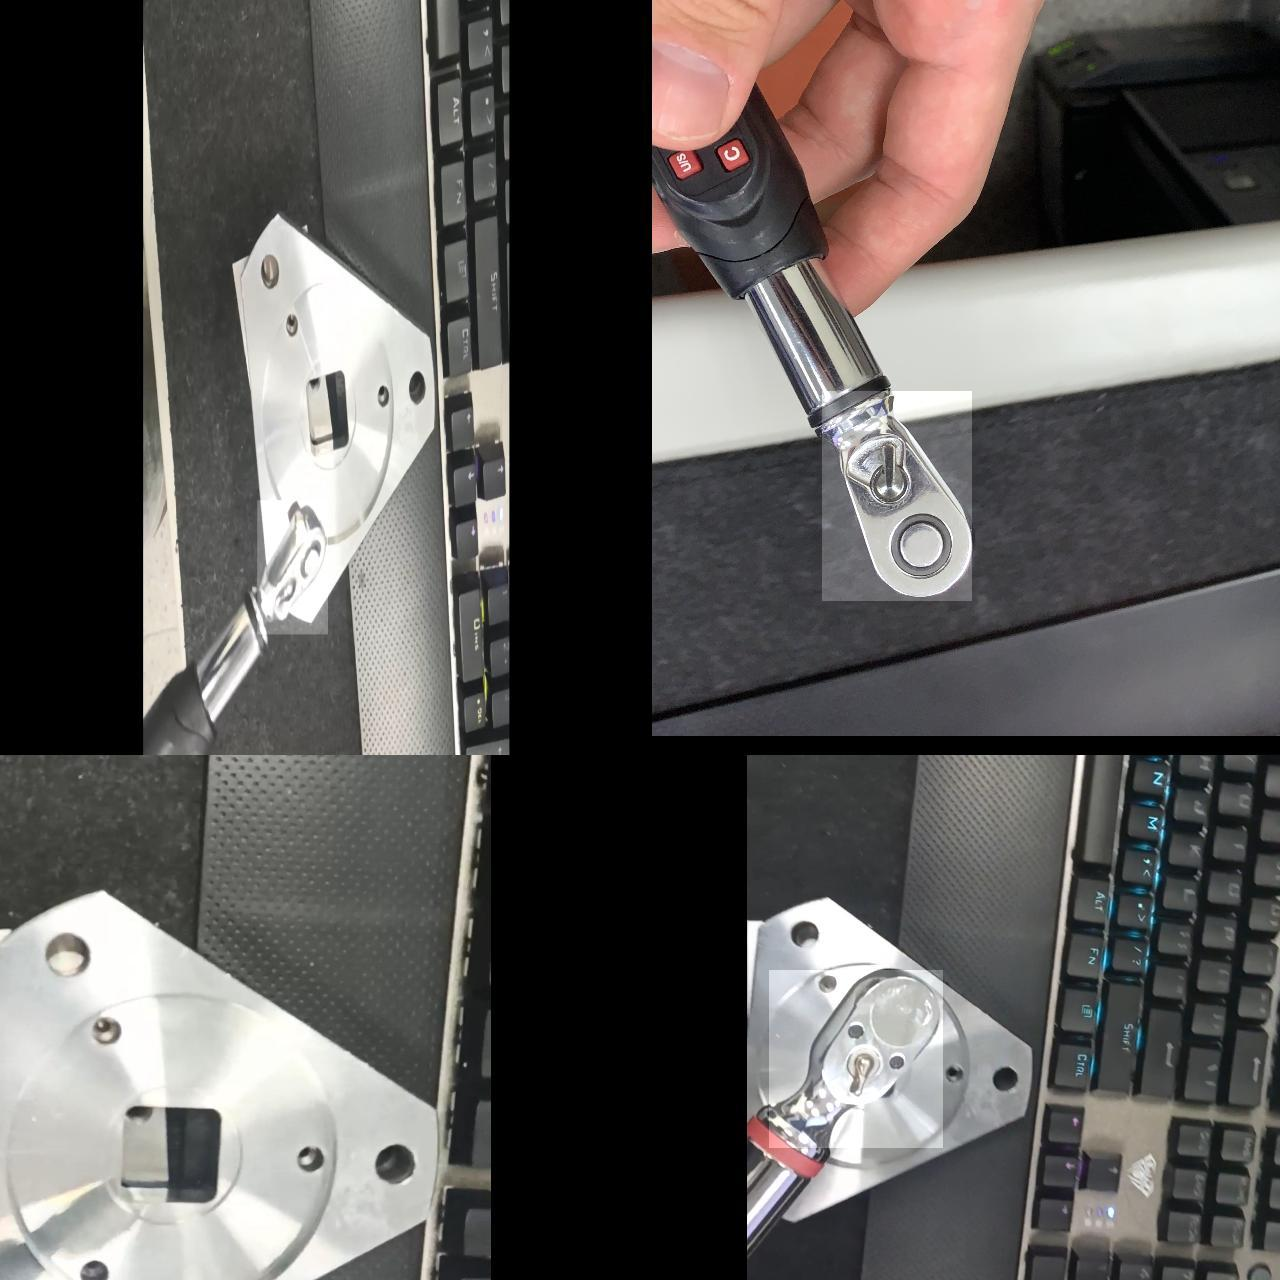Tool: (821, 391, 971, 601), (768, 970, 942, 1148), (256, 500, 328, 634)
